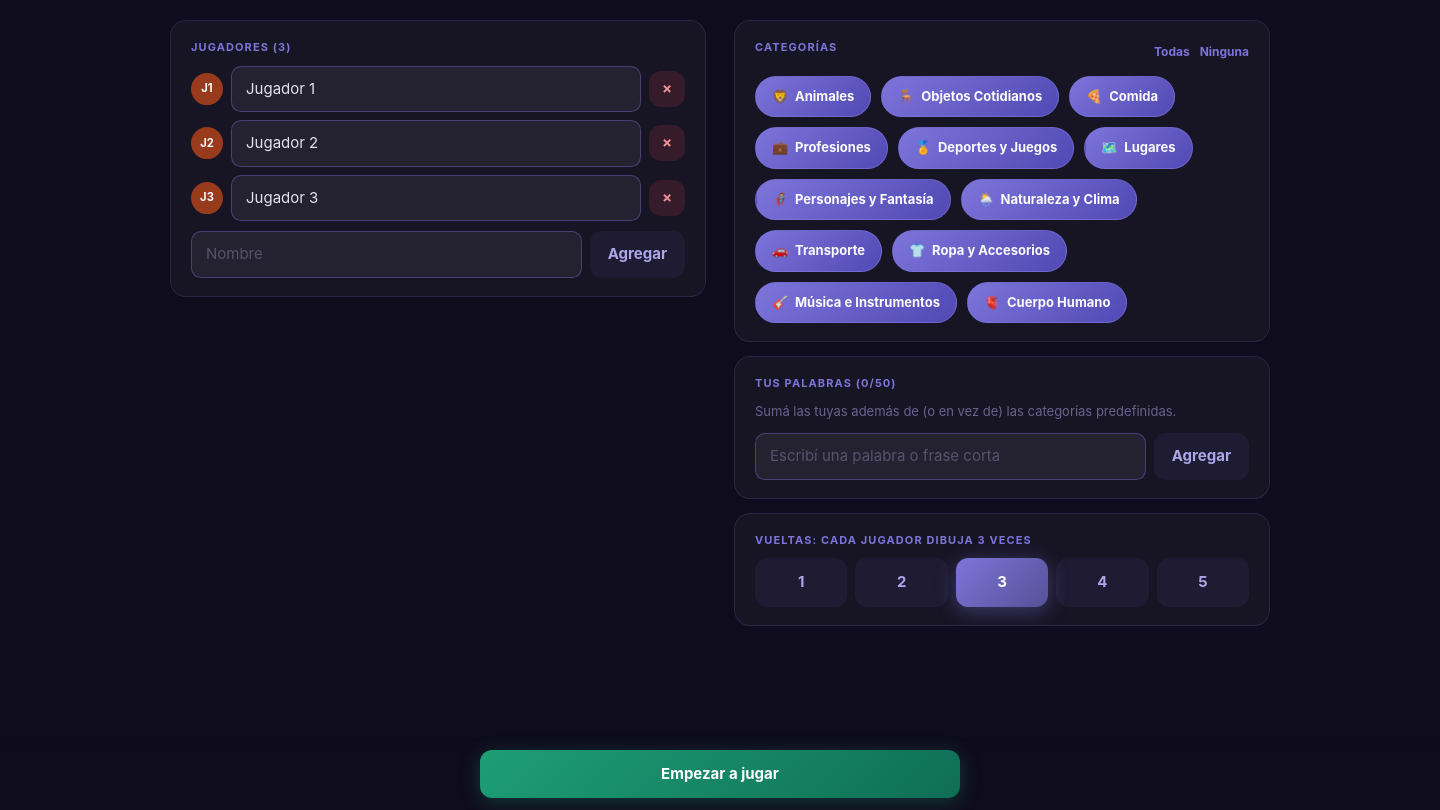
Test: Rayado Libre LocalGame › 'Agregar' in the players card adds a player with the typed name
Type "Tobi" into the field named "Nombre del jugador nuevo" at (386, 254), box left=191, top=231, right=582, bottom=278
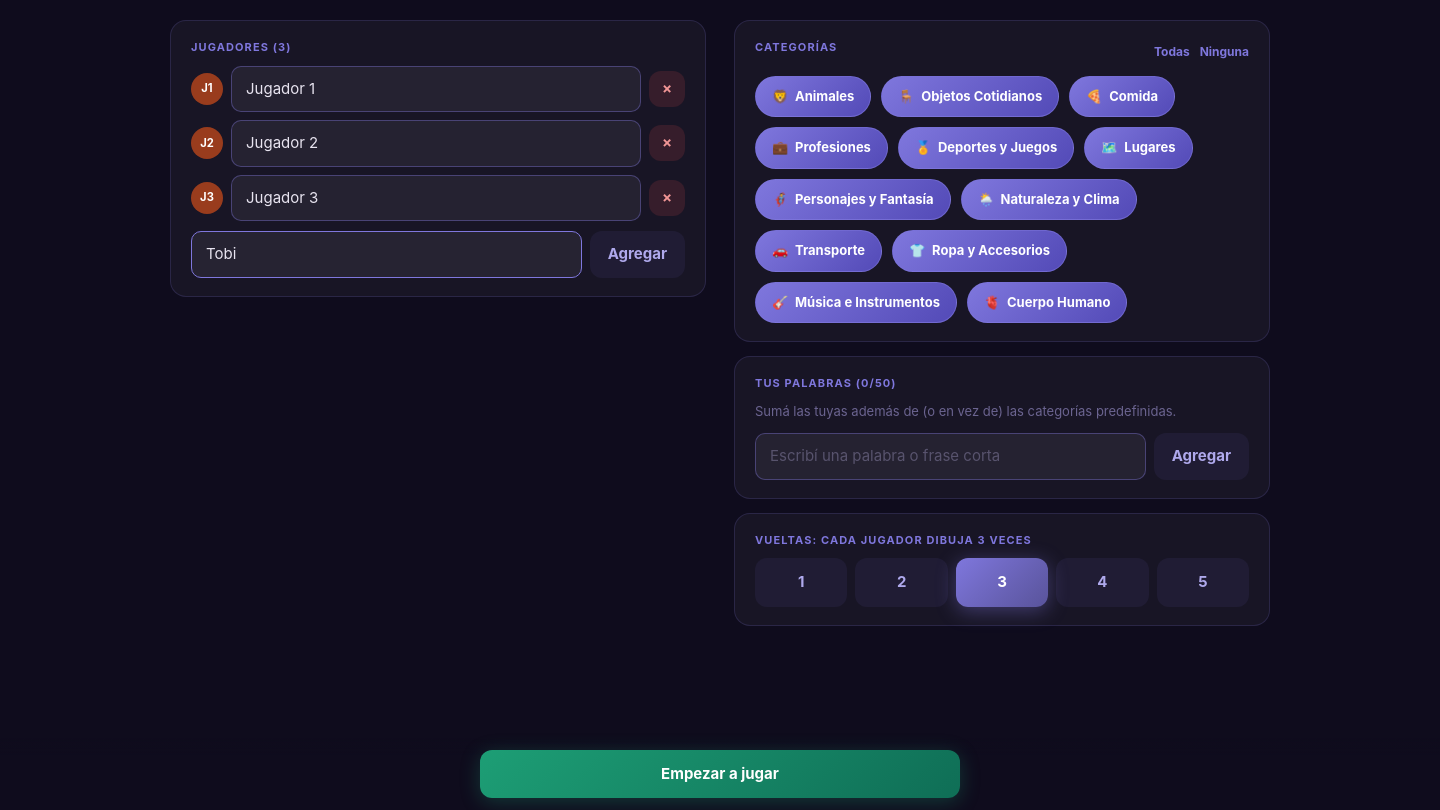
Click the 1st button "Agregar" at (637, 254), box left=590, top=231, right=685, bottom=278
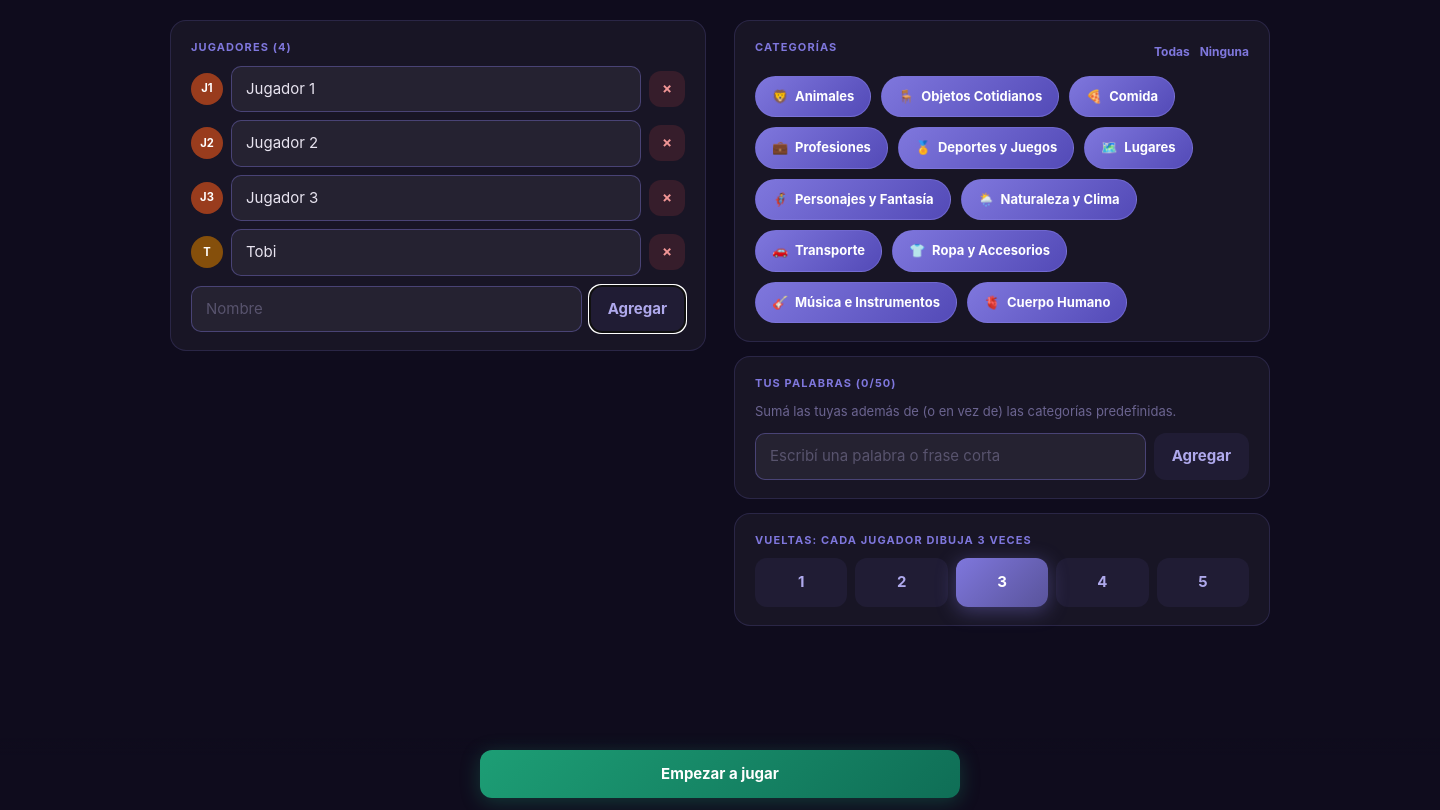
Expected: the 4th field showing "Tobi" is shown, left=231, top=229, right=641, bottom=276
Expected: the field named "Nombre del jugador nuevo" is empty, left=191, top=286, right=582, bottom=332
